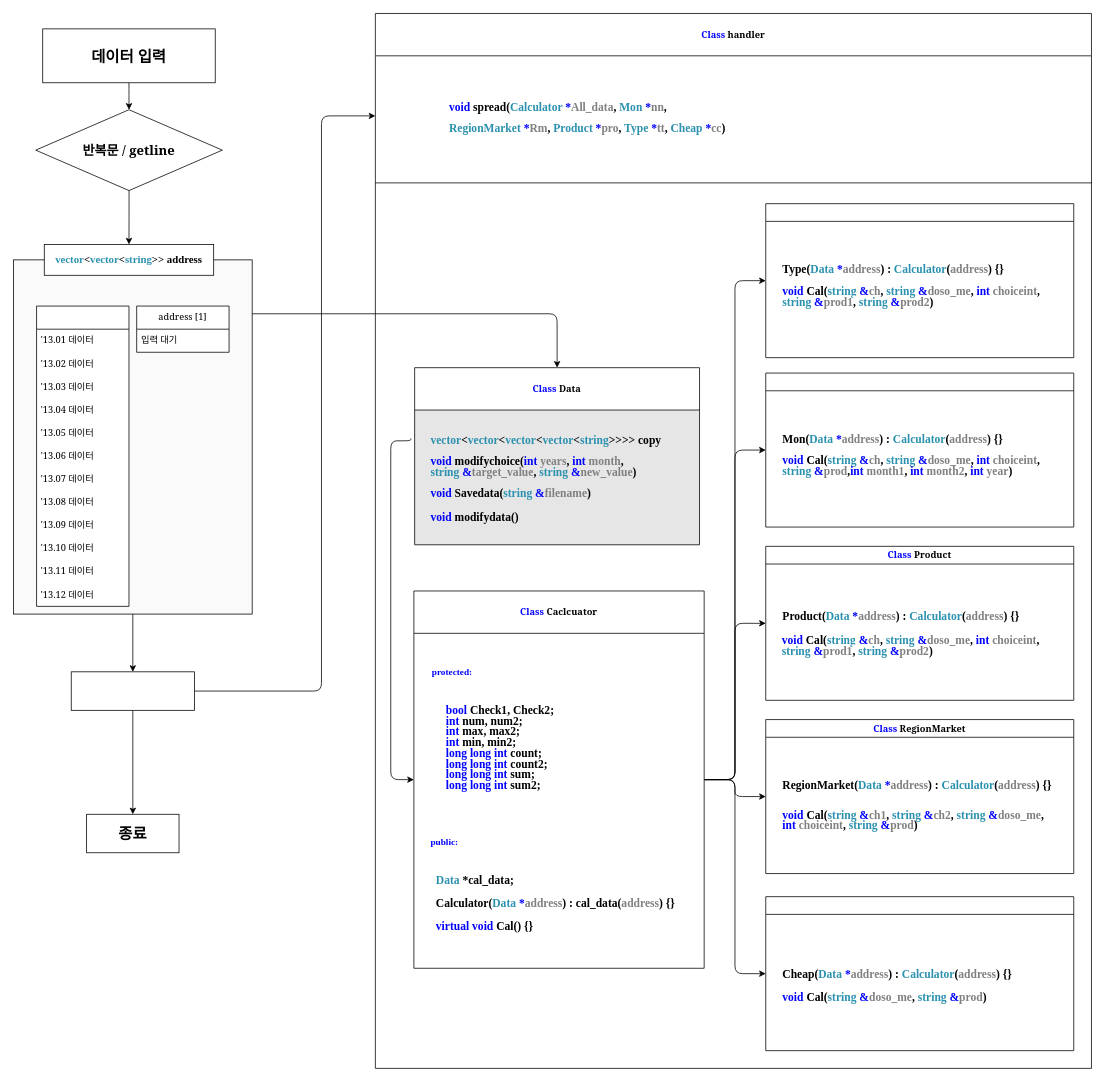
This 1106x1082 diagram has some shape labels left out. The box of each missing label's shape, as (x1, y1, x2, y2) in pixels:
address [0]: (36, 305, 129, 606)
Class Cheap: (765, 896, 1074, 1051)
Class Mon: (765, 372, 1074, 527)
Class Type: (765, 203, 1074, 358)
핸들러 호출: (70, 671, 194, 710)
